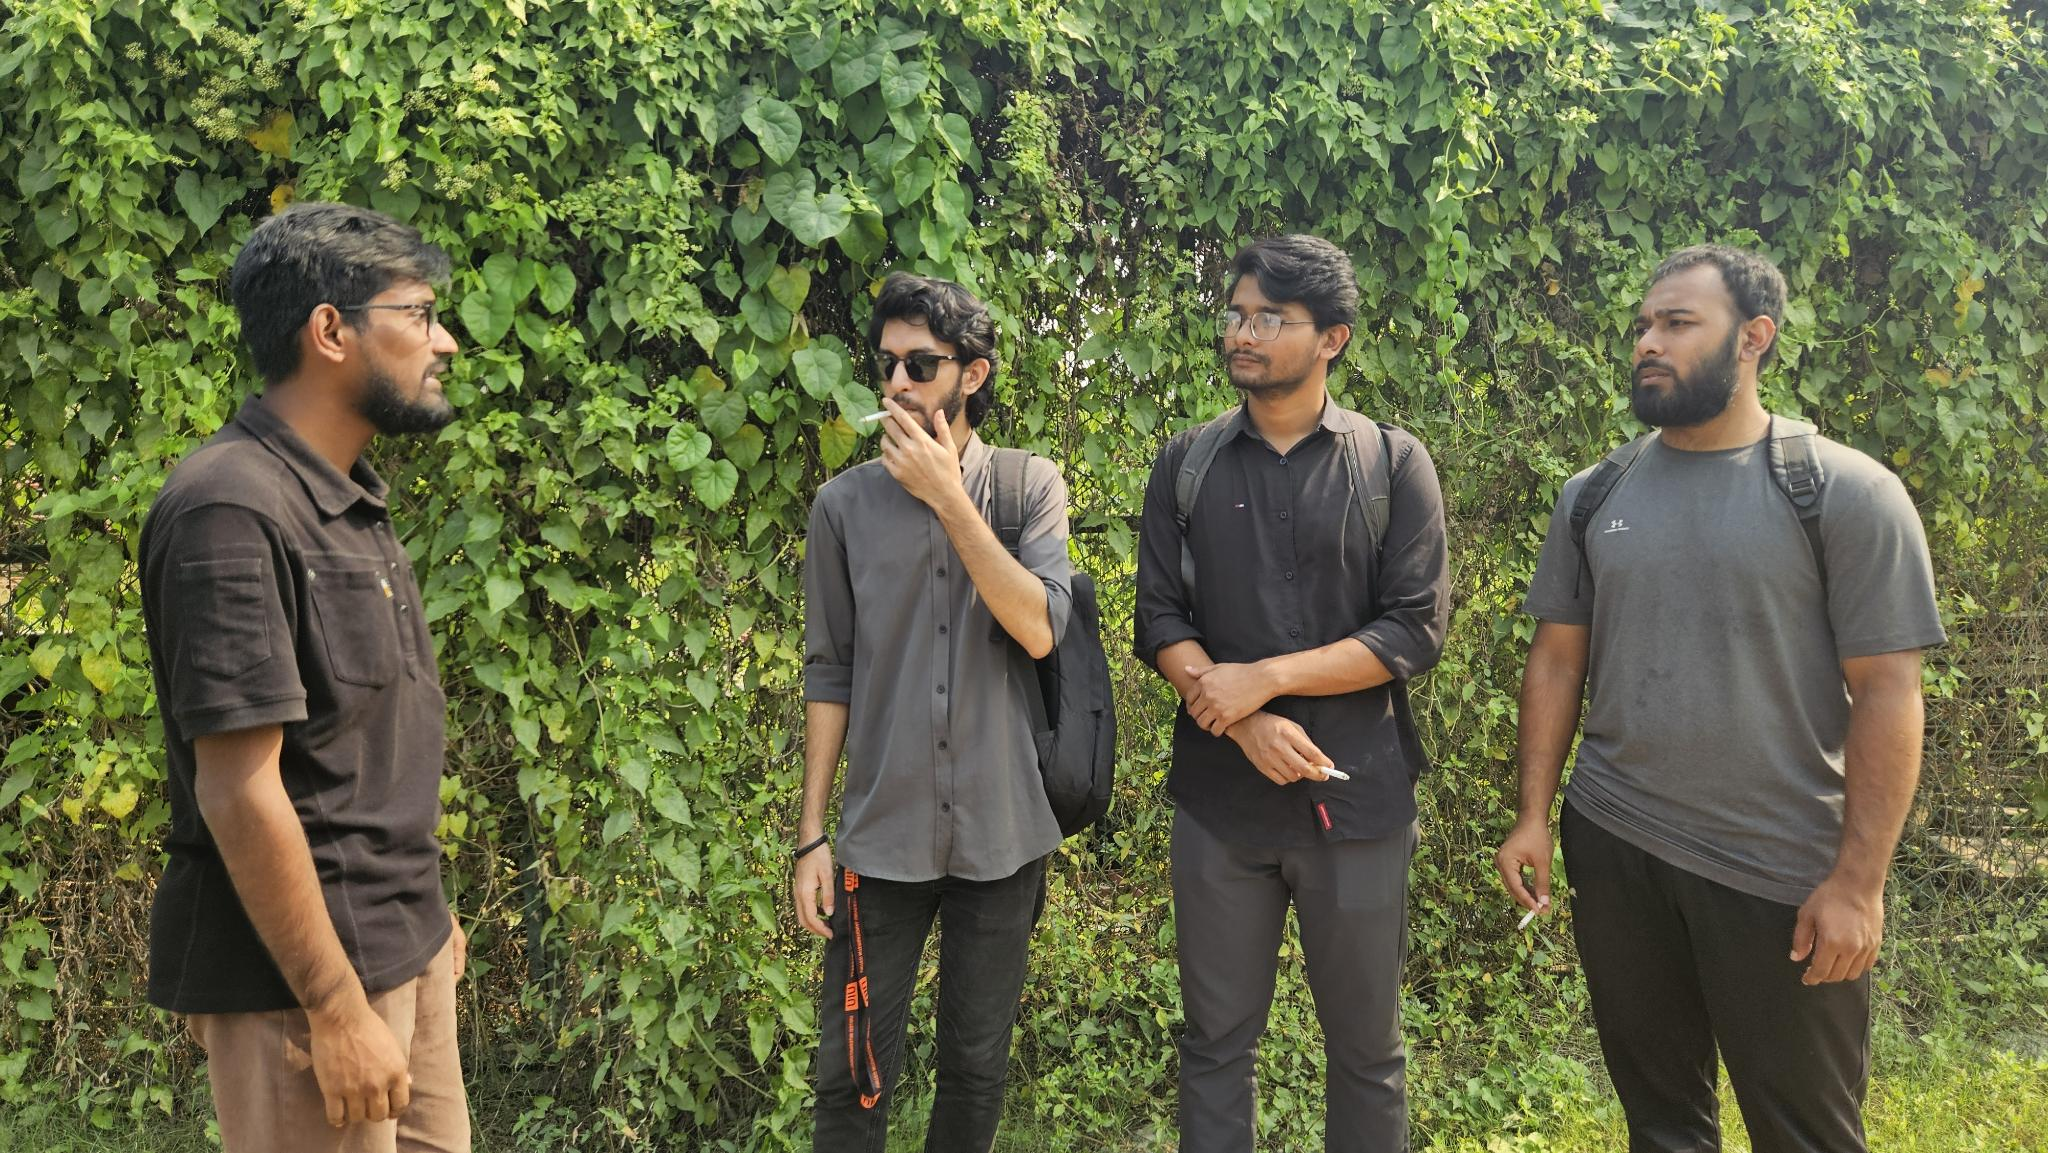cigarette: (1515, 900, 1544, 931), (1311, 764, 1350, 782), (857, 409, 893, 425)
nonSmoker: (139, 202, 471, 1153)
smoker: (1494, 246, 1948, 1153), (1132, 233, 1450, 1153), (789, 274, 1114, 1153)
